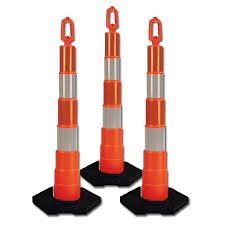cones: (32, 18, 101, 214), (123, 18, 189, 215), (84, 7, 139, 187)
